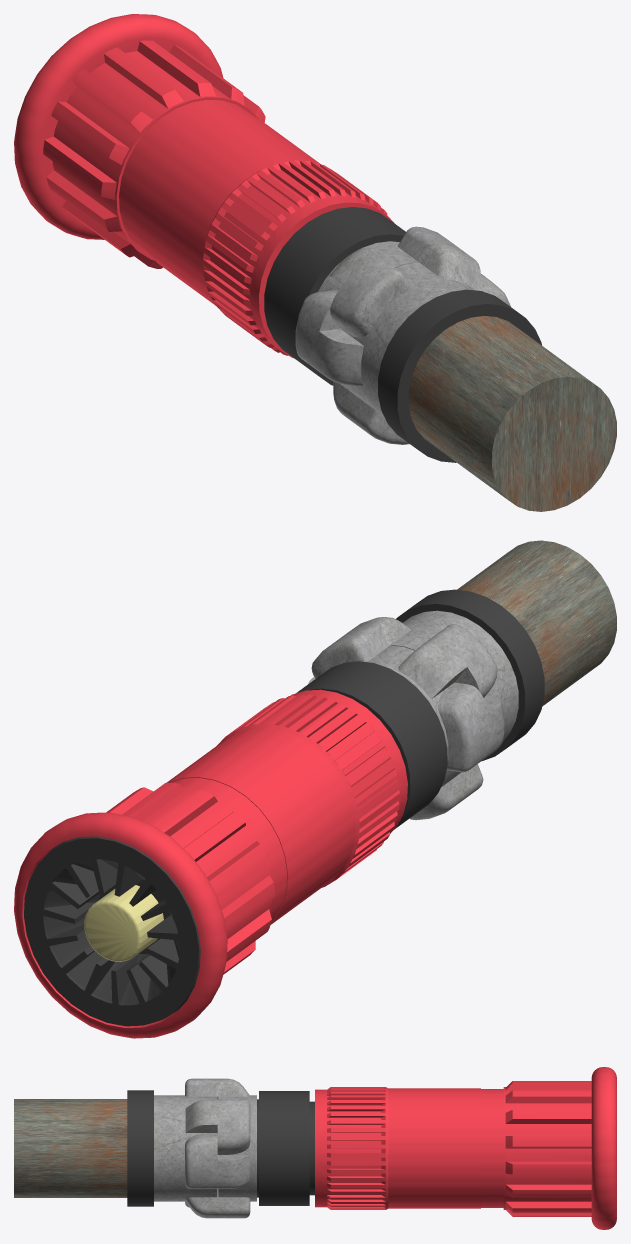
File: LanzaSinMango.fbx
3 renders of one model, top to bottom at view 1: azimuth 30°, elevation 25°; view 2: azimuth 150°, elevation 25°; view 3: azimuth 270°, elevation 25°, orthographic. The views are drawn at different scales.
Parts seen in each view (by area): view 1: EngancheLanzaUnity.001, ReguladorLanzaUnity.001; view 2: ReguladorLanzaUnity.001, EngancheLanzaUnity.001; view 3: ReguladorLanzaUnity.001, EngancheLanzaUnity.001.
Boxes of the visible parts, x1=… form: EngancheLanzaUnity.001: x1=264, y1=207, x2=616, y2=511; ReguladorLanzaUnity.001: x1=14, y1=14, x2=393, y2=358; ReguladorLanzaUnity.001: x1=14, y1=689, x2=407, y2=1038; EngancheLanzaUnity.001: x1=296, y1=540, x2=616, y2=829; ReguladorLanzaUnity.001: x1=315, y1=1067, x2=616, y2=1229; EngancheLanzaUnity.001: x1=14, y1=1078, x2=314, y2=1218.
Size of the model in its own units: 5.82 by 5.83 by 21.58.
5 materials, 2 textured.
